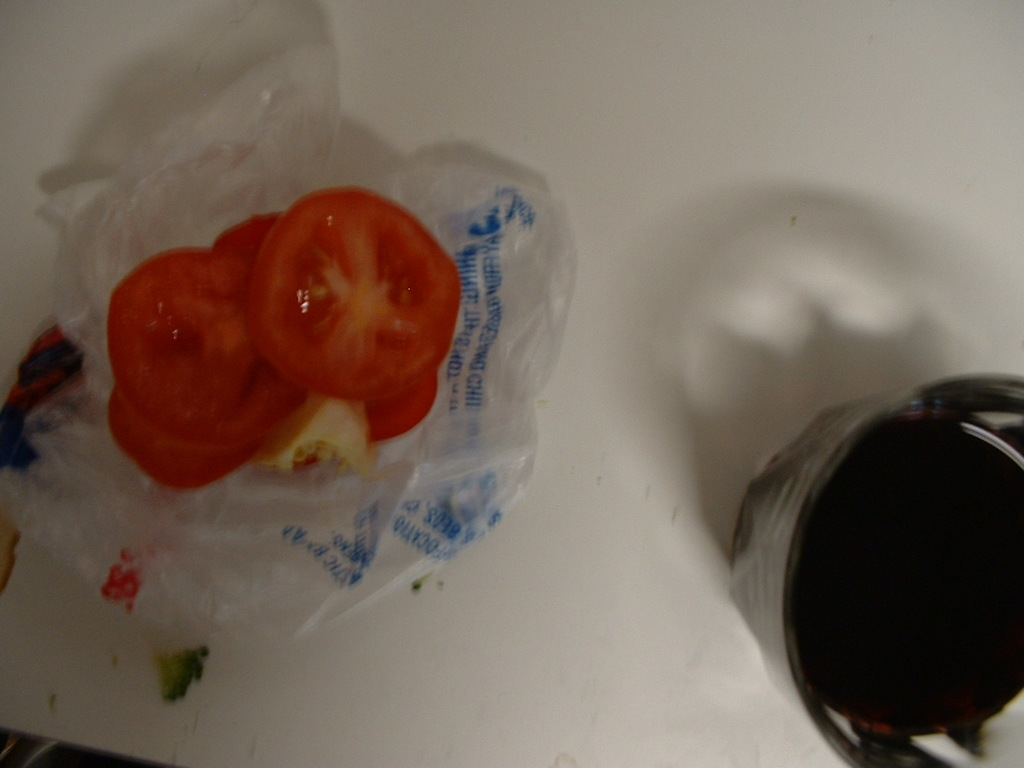Tomato: (145, 192, 412, 452)
